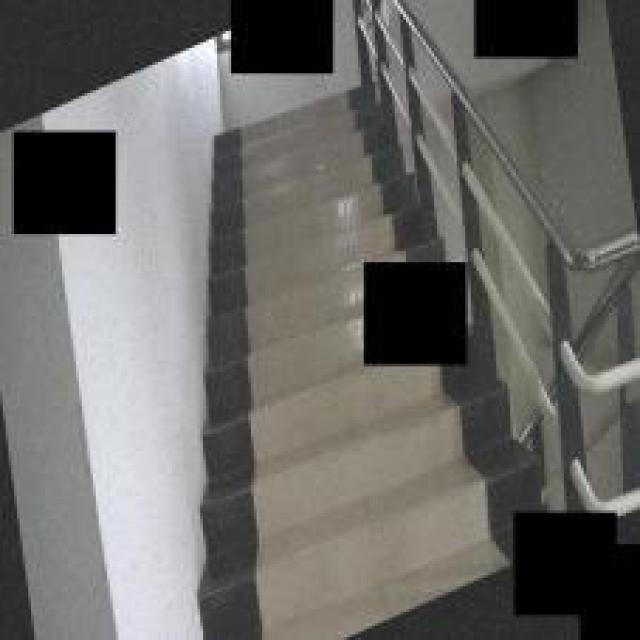upstair: (204, 173, 351, 635)
